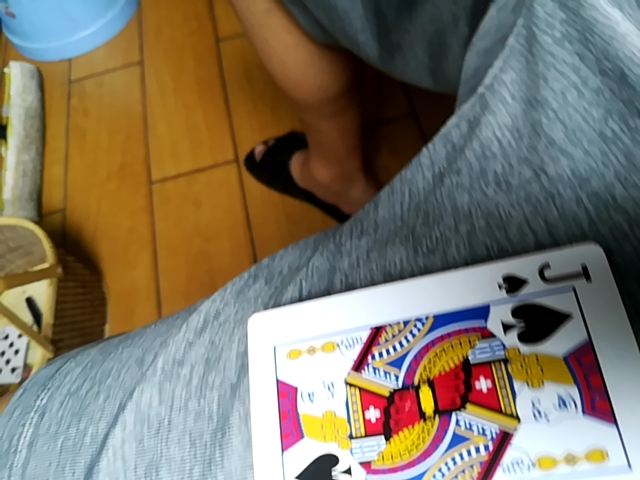ht j: (236, 237, 633, 479)
